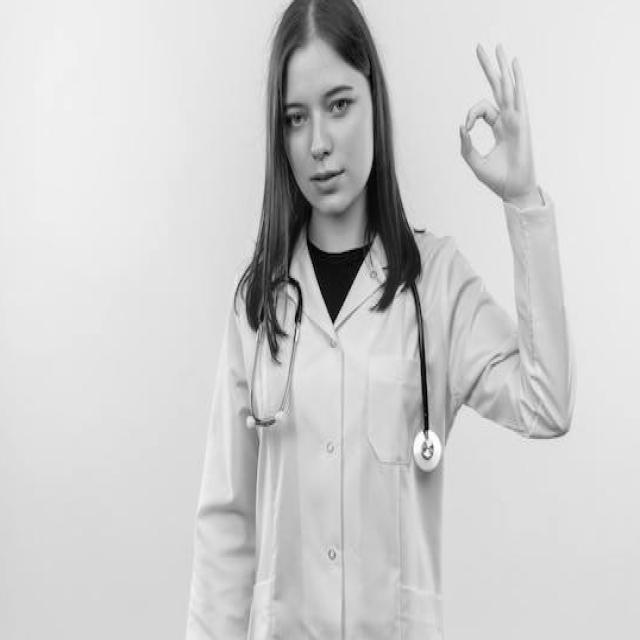perfect: (451, 31, 544, 196)
